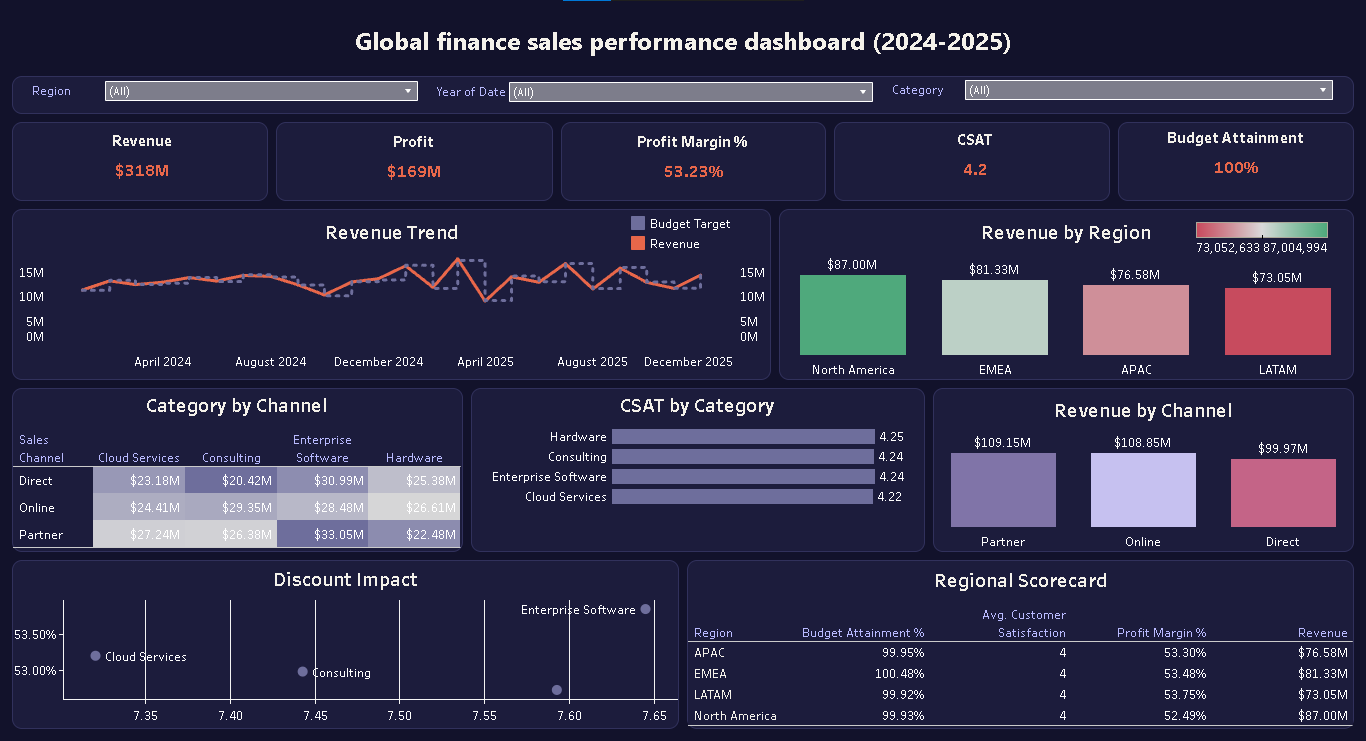

The dashboard page shown, as its layout file describes it:
{"tool":"tableau","page":{"name":"Global finance sales performance dashboard (2024-2025)","canvas":[1000,1000],"units":"permille","ordinal":0},"visuals":[{"type":"text","box":[6,13.3,988.1,86.4]},{"type":"blank","box":[6,99.7,988.1,61.5]},{"type":"filter","title":"CSAT by Category","param":"[federated.1sj50tw11odcq21d4p3f80khhqlr].[none:Product Category:nk]","box":[652.8,108,323.8,48.2]},{"type":"filter","title":"Revenue by Region","param":"[federated.1sj50tw11odcq21d4p3f80khhqlr].[none:Region:nk]","box":[23.4,109.6,283.1,41.5]},{"type":"filter","title":"Revenue Trend","param":"[federated.1sj50tw11odcq21d4p3f80khhqlr].[yr:Date:ok]","box":[319.5,111.3,320.4,39.9]},{"type":"blank","box":[6,161.1,193,116.2]},{"type":"blank","box":[199,161.1,208.5,116.2]},{"type":"blank","box":[407.5,161.1,199.8,116.2]},{"type":"blank","box":[607.3,161.1,208.1,116.2]},{"type":"blank","box":[815.4,161.1,178.7,116.2]},{"type":"worksheet","title":"KPI - Budget Attainment","mark":"Automatic","box":[819.1,161.1,170.6,109.6]},{"type":"worksheet","title":"KPI - CSAT","mark":"Automatic","box":[614.7,162.8,197.4,106.3]},{"type":"worksheet","title":"KPI - Revenue","mark":"Automatic","box":[9.5,164.5,187.9,106.3]},{"type":"worksheet","title":"KPI - Profit","mark":"Automatic","box":[201.7,166.1,201.7,103]},{"type":"worksheet","title":"KPI - Margin","mark":"Automatic","box":[411.3,166.1,191.3,106.3]},{"type":"blank","box":[6,277.4,561.7,240.9]},{"type":"blank","box":[567.6,277.4,426.4,240.9]},{"type":"worksheet","title":"Revenue Trend","mark":"Line","rows":["Revenue_USD","Budget_Target"],"cols":["Date"],"box":[12.1,285.7,548.9,220.9]},{"type":"worksheet","title":"Revenue by Region","mark":"Automatic","rows":["Revenue_USD"],"cols":["Region"],"box":[572.3,285.7,415.6,222.6]},{"type":"legend","title":"Revenue Trend","param":"[federated.1sj50tw11odcq21d4p3f80khhqlr].[:Measure Names]","box":[459.7,287.4,104.5,66.5]},{"type":"legend","title":"Revenue by Region","param":"[federated.1sj50tw11odcq21d4p3f80khhqlr].[sum:Revenue_USD:qk]","box":[872.7,294,102.2,66.5]},{"type":"blank","box":[6,518.2,335.9,230.8]},{"type":"blank","box":[341.9,518.2,337.9,230.8]},{"type":"blank","box":[679.7,518.2,314.3,230.8]},{"type":"worksheet","title":"Category by Channel","mark":"Square","rows":["Sales Channel"],"cols":["Product Category"],"box":[9.5,519.9,328.1,219.3]},{"type":"worksheet","title":"CSAT by Category","mark":"Automatic","rows":["Product Category"],"cols":["CSAT"],"box":[345.4,519.9,329.9,220.9]},{"type":"worksheet","title":"Revenue by Channel","mark":"Automatic","rows":["Revenue_USD"],"cols":["Sales Channel"],"box":[683.1,526.6,307.4,214.3]},{"type":"blank","box":[6,749.1,493.8,237.6]},{"type":"blank","box":[499.7,749.1,494.3,237.6]},{"type":"worksheet","title":"Discount Impact","mark":"Circle","rows":["Calculation_0024505682706433"],"cols":["Discount_Percent"],"box":[8.7,754.1,487.4,229.2]},{"type":"worksheet","title":"Regional Scorecard","mark":"Automatic","rows":["Region"],"box":[503.9,755.8,486.6,224.2]}]}

Visuals, with their boxes on the dashboard's canvas, which has no fixed pixel size, in thousandths of its width and height (x1, y1, x2, y2). These are canvas units, not pixel positions in the 1366x741 screenshot, which may show the page scaled, cropped or inside an application window:
text: 6, 13, 994, 100
blank: 6, 100, 994, 161
"CSAT by Category" filter: 653, 108, 977, 156
"Revenue by Region" filter: 23, 110, 306, 151
"Revenue Trend" filter: 320, 111, 640, 151
blank: 6, 161, 199, 277
blank: 199, 161, 408, 277
blank: 408, 161, 607, 277
blank: 607, 161, 815, 277
blank: 815, 161, 994, 277
"KPI - Budget Attainment" worksheet: 819, 161, 990, 271
"KPI - CSAT" worksheet: 615, 163, 812, 269
"KPI - Revenue" worksheet: 10, 164, 197, 271
"KPI - Profit" worksheet: 202, 166, 403, 269
"KPI - Margin" worksheet: 411, 166, 603, 272
blank: 6, 277, 568, 518
blank: 568, 277, 994, 518
"Revenue Trend" worksheet (Line marks): 12, 286, 561, 507
"Revenue by Region" worksheet: 572, 286, 988, 508
"Revenue Trend" legend: 460, 287, 564, 354
"Revenue by Region" legend: 873, 294, 975, 360
blank: 6, 518, 342, 749
blank: 342, 518, 680, 749
blank: 680, 518, 994, 749
"Category by Channel" worksheet (Square marks): 10, 520, 338, 739
"CSAT by Category" worksheet: 345, 520, 675, 741
"Revenue by Channel" worksheet: 683, 527, 990, 741
blank: 6, 749, 500, 987
blank: 500, 749, 994, 987
"Discount Impact" worksheet (Circle marks): 9, 754, 496, 983
"Regional Scorecard" worksheet: 504, 756, 990, 980
